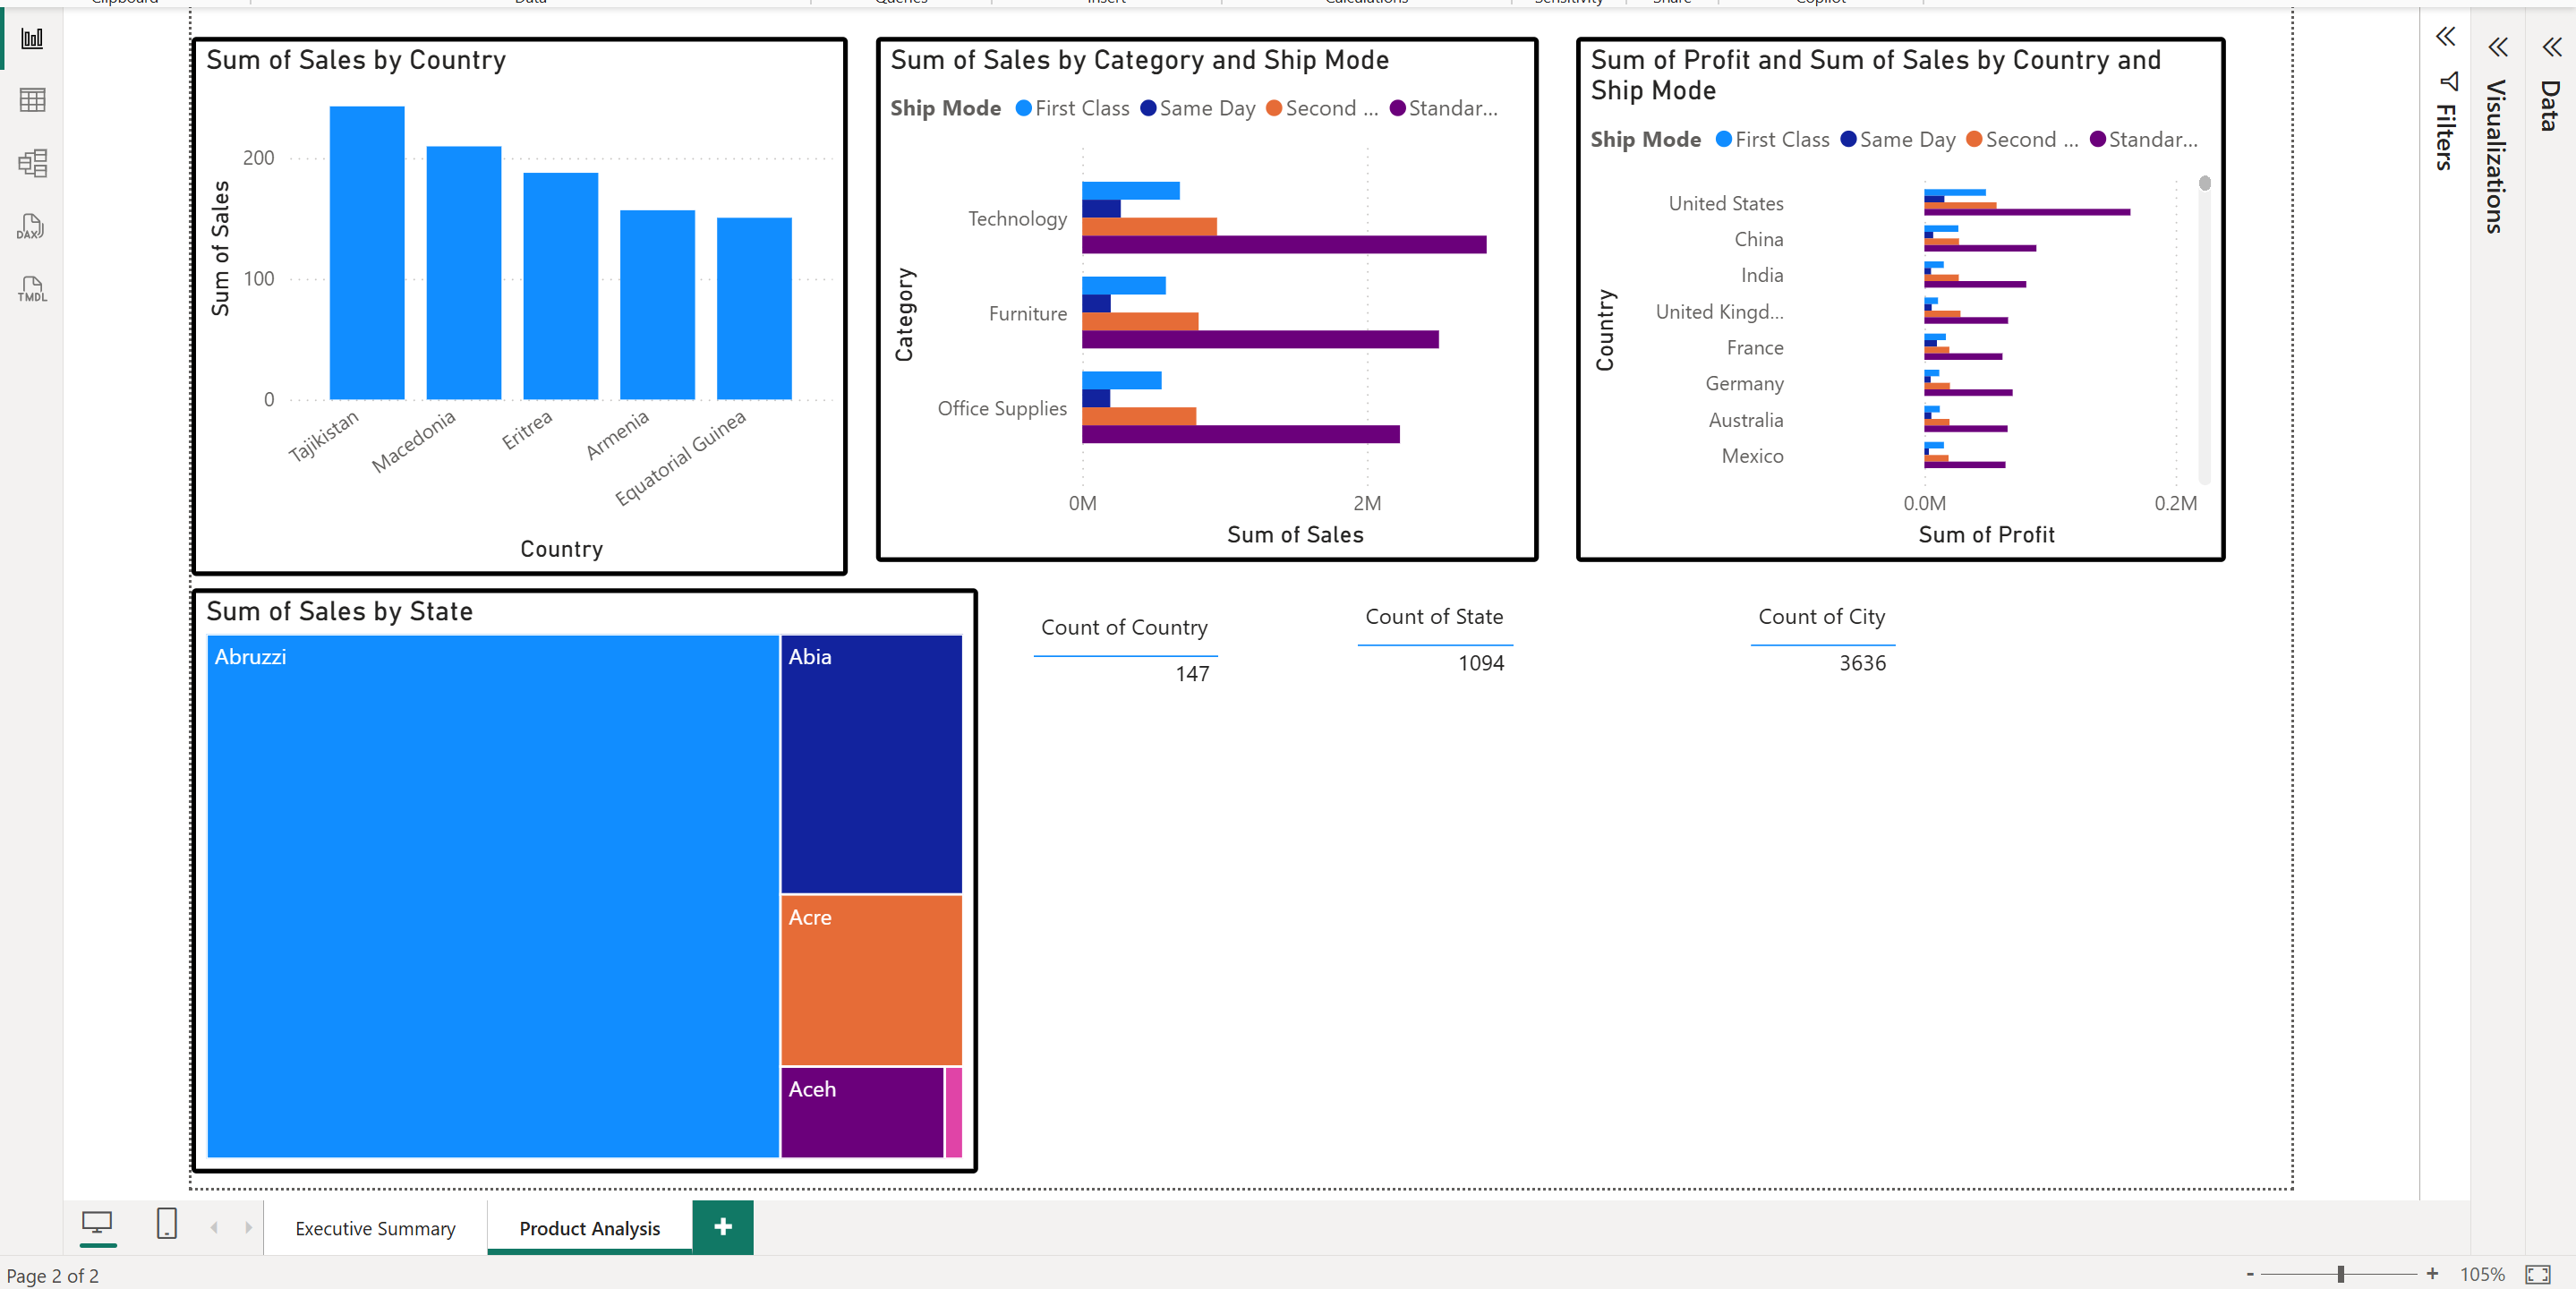

Layout of this report page (visuals, bound fields, positions):
{"tool":"powerbi","page":{"name":"Product Analysis","canvas":[1280,720],"ordinal":1},"visuals":[{"type":"columnChart","fields":{"Category":["Orders.Country"],"Y":["Sum(Orders.Sales)"]},"box":[0,18.1,400,328.4],"z":0},{"type":"clusteredBarChart","fields":{"Category":["Orders.Category"],"Y":["Sum(Orders.Sales)"],"Series":["Orders.Ship Mode"]},"box":[417.2,18.1,403.9,319.8],"z":1000},{"type":"tableEx","fields":{"Values":["Orders.Country"]},"box":[506.9,362.2,354.9,349.6],"z":2000},{"type":"tableEx","fields":{"Values":["Orders.State"]},"box":[704.4,354.9,403.4,320],"z":3000},{"type":"tableEx","fields":{"Values":["Orders.City"]},"box":[944.2,354.9,327.4,320],"z":4000},{"type":"clusteredBarChart","fields":{"Series":["Orders.Ship Mode"],"Category":["Orders.Country"],"Y":["Sum(Orders.Profit)"]},"box":[844,18.1,396.2,319.8],"z":5000},{"type":"treemap","fields":{"Group":["Orders.State"],"Values":["Sum(Orders.Sales)"]},"box":[0,354.2,479.3,357.1],"z":6000}]}

Visuals, with their boxes on the page's 1280x720 design canvas (x1, y1, x2, y2). These are canvas units, not pixel positions in the 2576x1289 screenshot, which may show the page scaled, cropped or inside an application window:
columnChart - Orders.Country x Sum(Orders.Sales): crop(0, 18, 400, 346)
clusteredBarChart - Orders.Category x Sum(Orders.Sales): crop(417, 18, 821, 338)
tableEx - Orders.Country: crop(507, 362, 862, 712)
tableEx - Orders.State: crop(704, 355, 1108, 675)
tableEx - Orders.City: crop(944, 355, 1272, 675)
clusteredBarChart - Orders.Ship Mode x Orders.Country: crop(844, 18, 1240, 338)
treemap - Orders.State x Sum(Orders.Sales): crop(0, 354, 479, 711)
